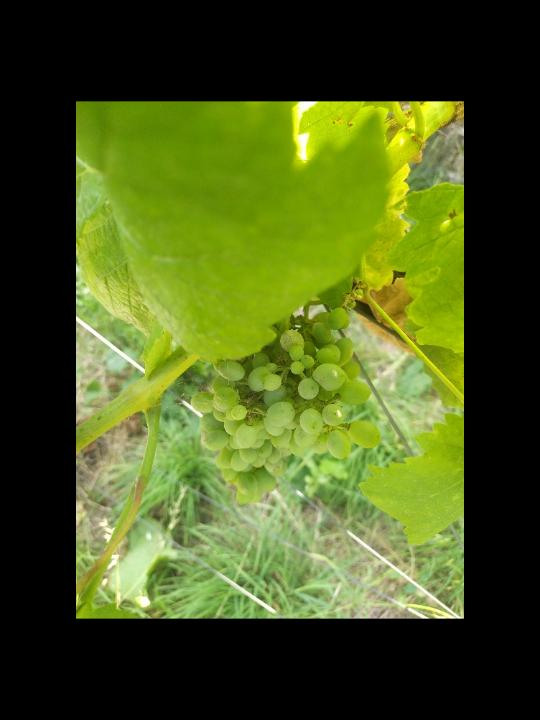grape: (186, 279, 383, 510)
